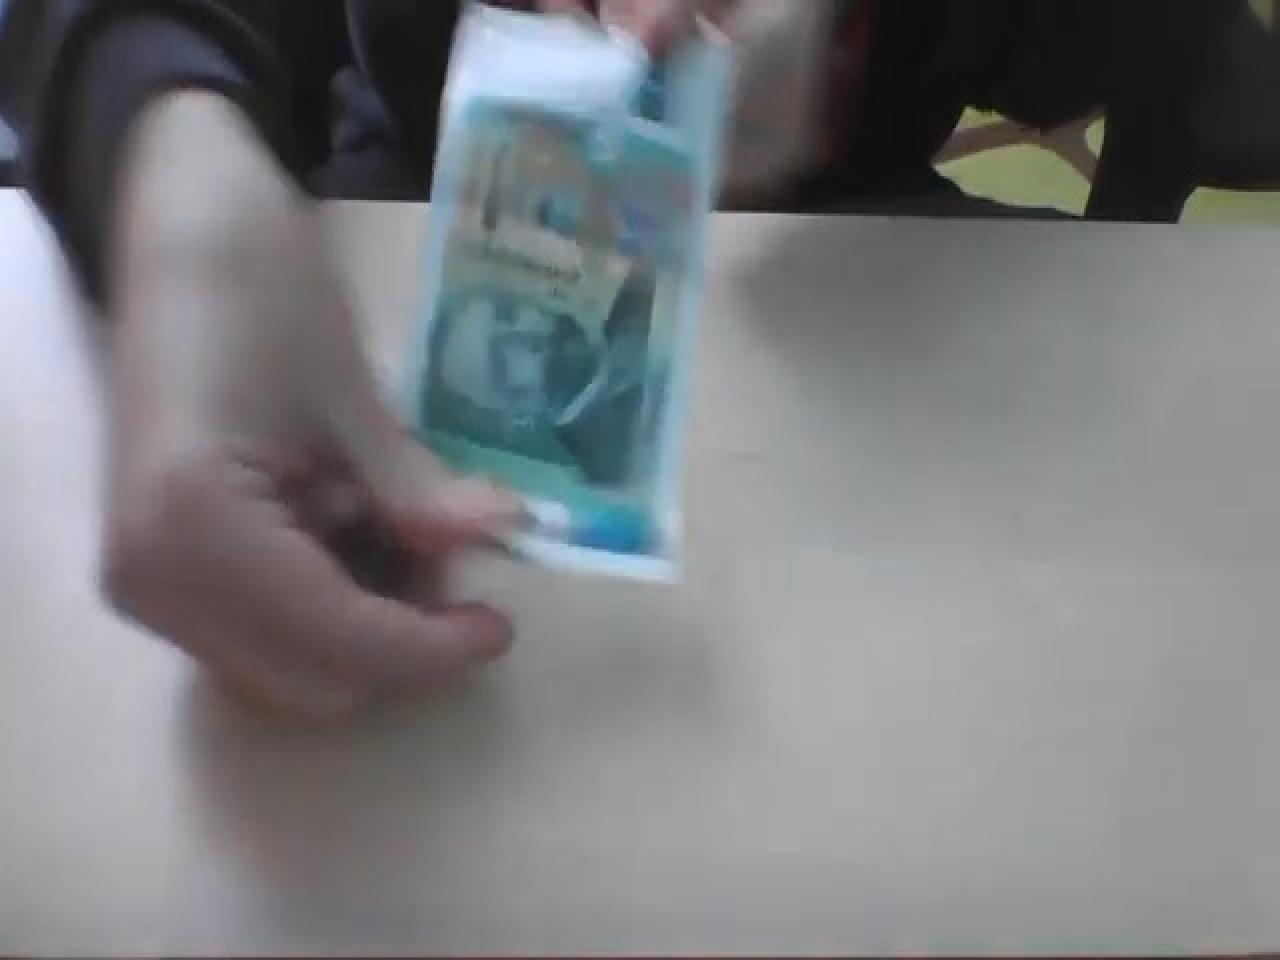100leva: (396, 2, 724, 587)
